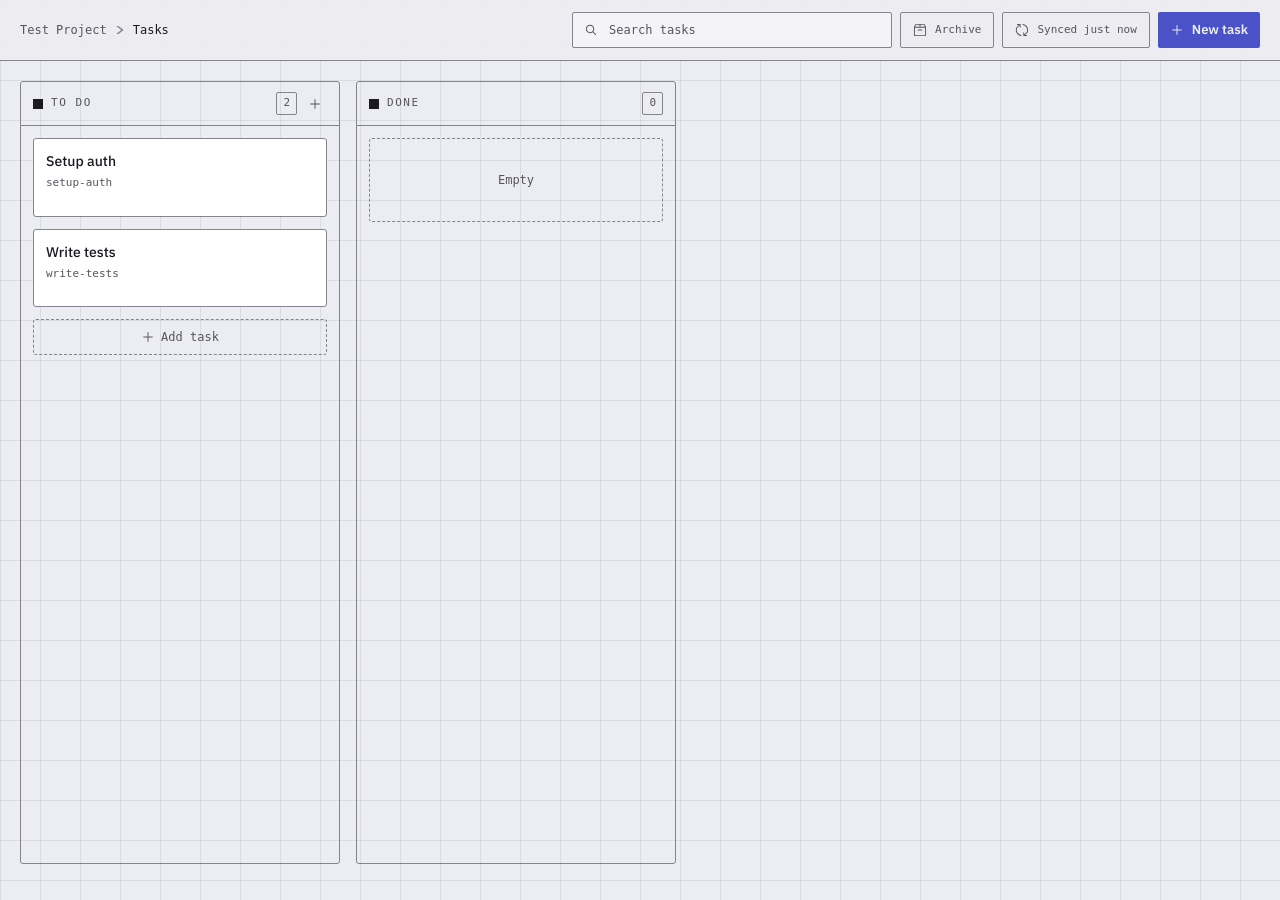
it: Markdown link handling › renders repo file links as plain paths when the host offers no destination
Click the heading "Setup auth" at x=81, y=161, box 46,152 -> 116,170
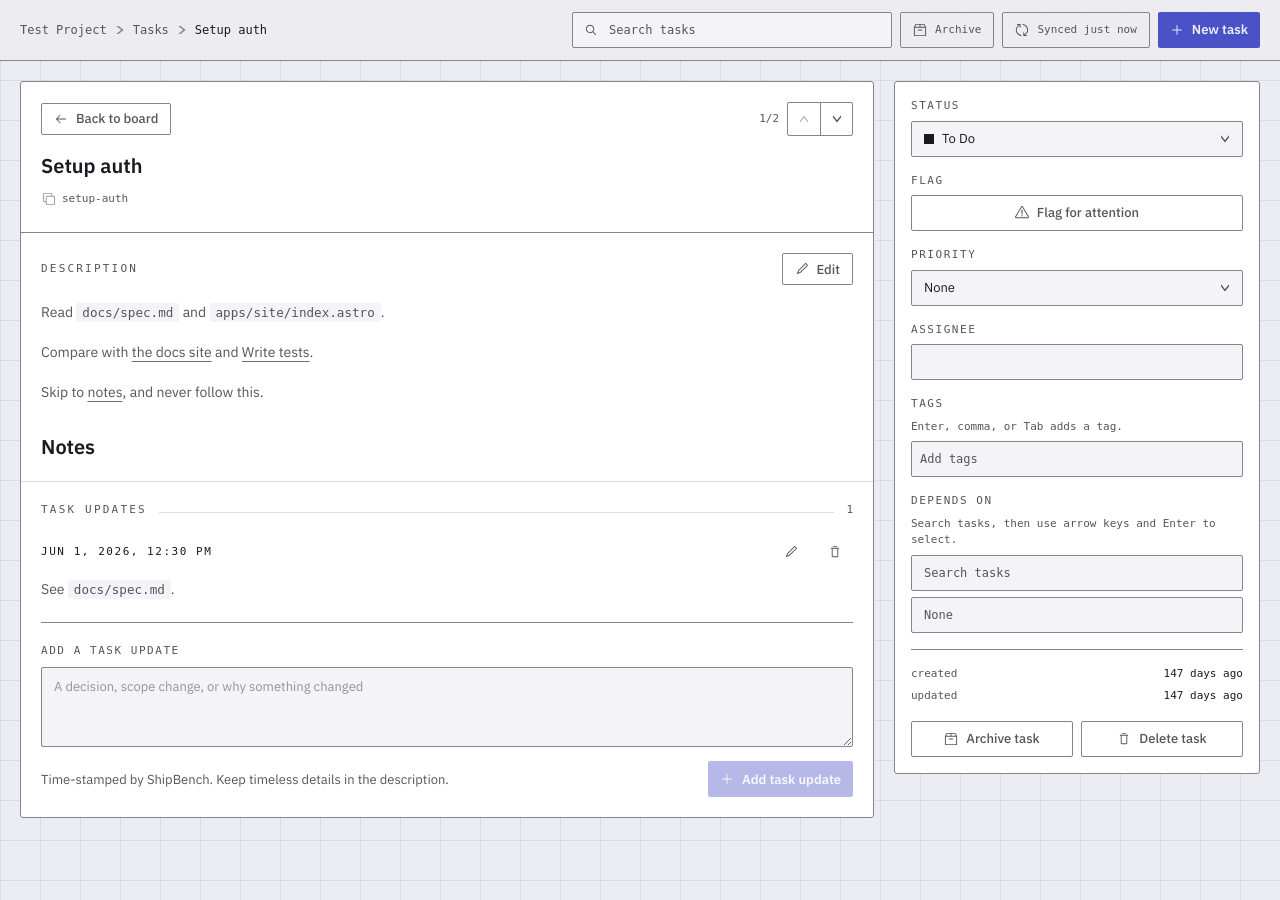
expect the heading "Notes" is shown: met, box 41,433 -> 95,460
expect the text "docs/spec.md" is shown 2 times: met, box 76,303 -> 179,322; 68,580 -> 171,599
expect the text "apps/site/index.astro" is shown: met, box 210,303 -> 381,322
